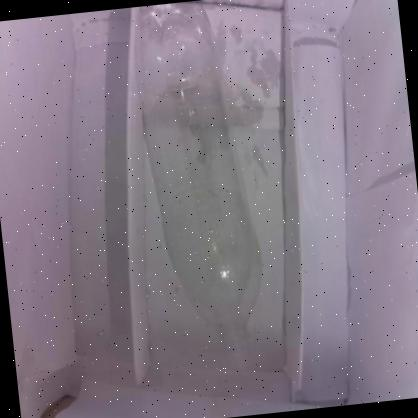bottle: (122, 0, 283, 387)
